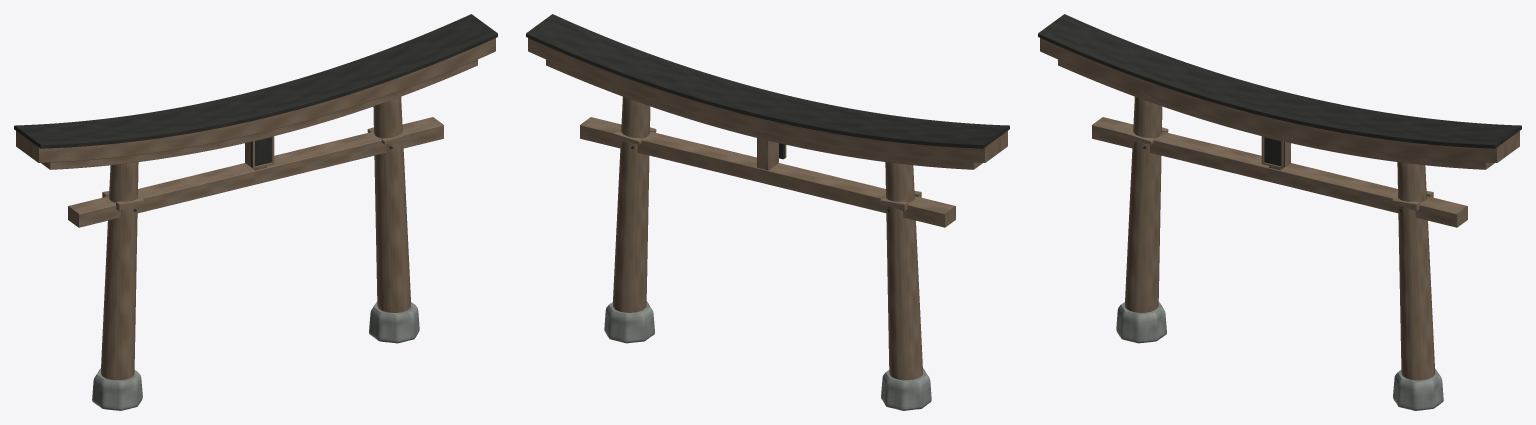
The model's file is ToriiGate.glb.
The picture shows the model from 3 angles, left to right: view 1: azimuth 30°, elevation 25°; view 2: azimuth 150°, elevation 25°; view 3: azimuth 330°, elevation 25°; orthographic projection.
Parts seen in each view (by area): view 1: TORII_KasagiCap, TORII_Nuki, TORII_Kasagi, TORII_Hashira_L, TORII_Hashira_R, TORII_Shimaki, TORII_Footing_L, TORII_Footing_R, TORII_Plaque; view 2: TORII_KasagiCap, TORII_Nuki, TORII_Kasagi, TORII_Hashira_L, TORII_Hashira_R, TORII_Shimaki, TORII_Footing_L, TORII_Footing_R, TORII_Gakuzuka; view 3: TORII_KasagiCap, TORII_Nuki, TORII_Kasagi, TORII_Hashira_R, TORII_Hashira_L, TORII_Shimaki, TORII_Footing_L, TORII_Footing_R, TORII_Plaque.
Boxes of the visible parts, x1,y1,x2,y2 form: TORII_KasagiCap: (14,14,497,148); TORII_Nuki: (68,117,443,227); TORII_Kasagi: (16,38,495,162); TORII_Hashira_L: (101,162,138,380); TORII_Hashira_R: (373,97,410,312); TORII_Shimaki: (41,59,477,169); TORII_Footing_L: (92,368,142,410); TORII_Footing_R: (369,301,419,343); TORII_Plaque: (251,137,271,167); TORII_KasagiCap: (526,14,1009,148); TORII_Nuki: (580,117,955,227); TORII_Kasagi: (528,38,1007,162); TORII_Hashira_L: (885,162,922,380); TORII_Hashira_R: (613,96,650,312); TORII_Shimaki: (546,59,982,169); TORII_Footing_L: (881,368,931,410); TORII_Footing_R: (604,301,654,343); TORII_Gakuzuka: (757,138,778,170); TORII_KasagiCap: (1038,14,1521,148); TORII_Nuki: (1092,117,1467,227); TORII_Kasagi: (1040,38,1519,162); TORII_Hashira_R: (1397,162,1435,380); TORII_Hashira_L: (1125,96,1162,312); TORII_Shimaki: (1058,59,1494,169); TORII_Footing_L: (1116,302,1166,343); TORII_Footing_R: (1393,368,1443,410); TORII_Plaque: (1264,137,1284,167).
Bounding box in the file's own units: 10.9 × 6.57 × 1.1.
Materials: 3 (3 with a texture image).
